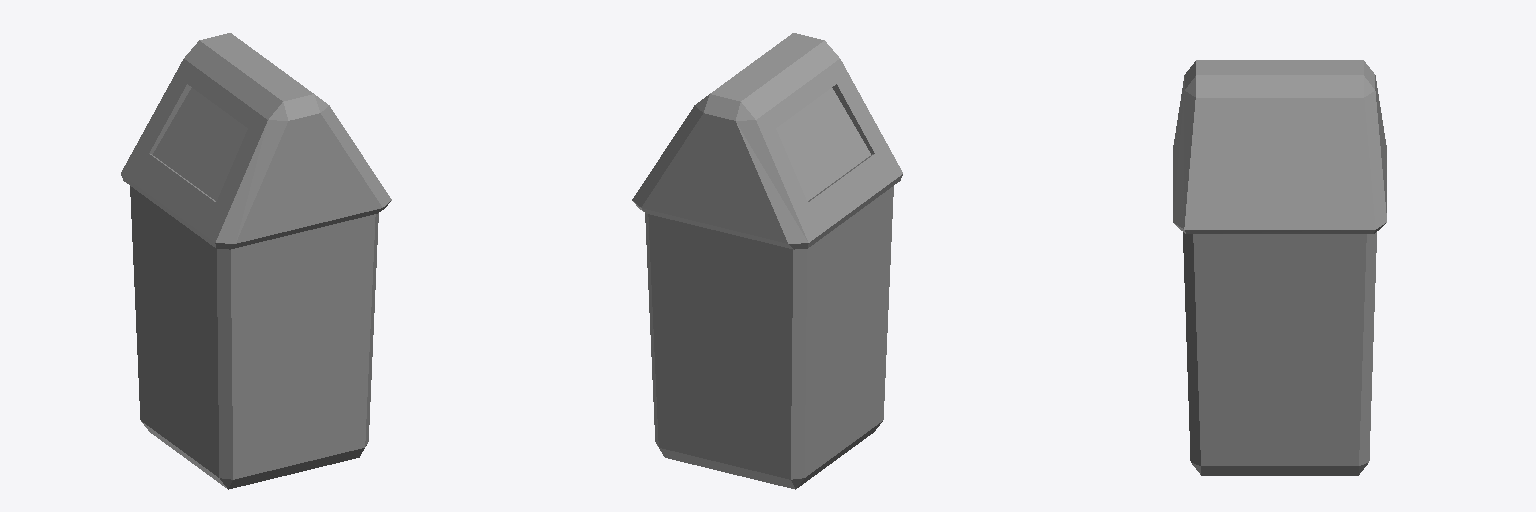
The model's file is Recycle-Bin.obj.
3 views of the same model, side by side, from view 1: azimuth 30°, elevation 25°; view 2: azimuth 150°, elevation 25°; view 3: azimuth 270°, elevation 25° (orthographic).
Visible parts, largest first — view 1: Cube.154_Cube.224, Cube.153_Cube.223; view 2: Cube.154_Cube.224, Cube.153_Cube.223; view 3: Cube.154_Cube.224, Cube.153_Cube.223.
Part boxes in pixels (left/top/right/bottom): Cube.154_Cube.224: left=130, top=186, right=378, bottom=489; Cube.153_Cube.223: left=121, top=33, right=391, bottom=249; Cube.154_Cube.224: left=645, top=186, right=893, bottom=489; Cube.153_Cube.223: left=632, top=33, right=902, bottom=249; Cube.154_Cube.224: left=1183, top=232, right=1376, bottom=475; Cube.153_Cube.223: left=1173, top=60, right=1386, bottom=233.
Size of the model in its own units: 1.05 by 2.14 by 1.1.